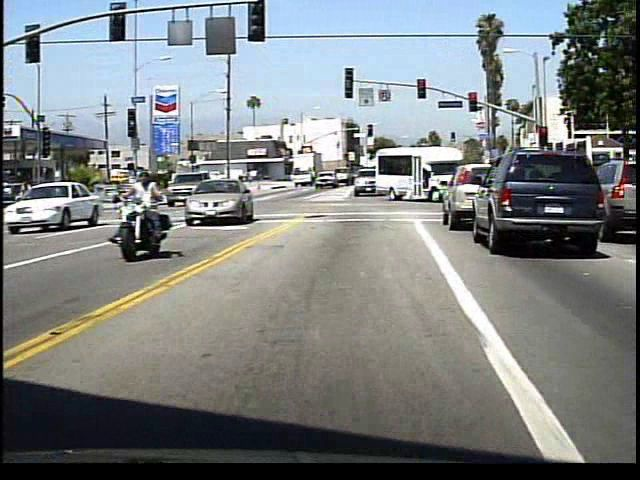person: (121, 164, 176, 259)
